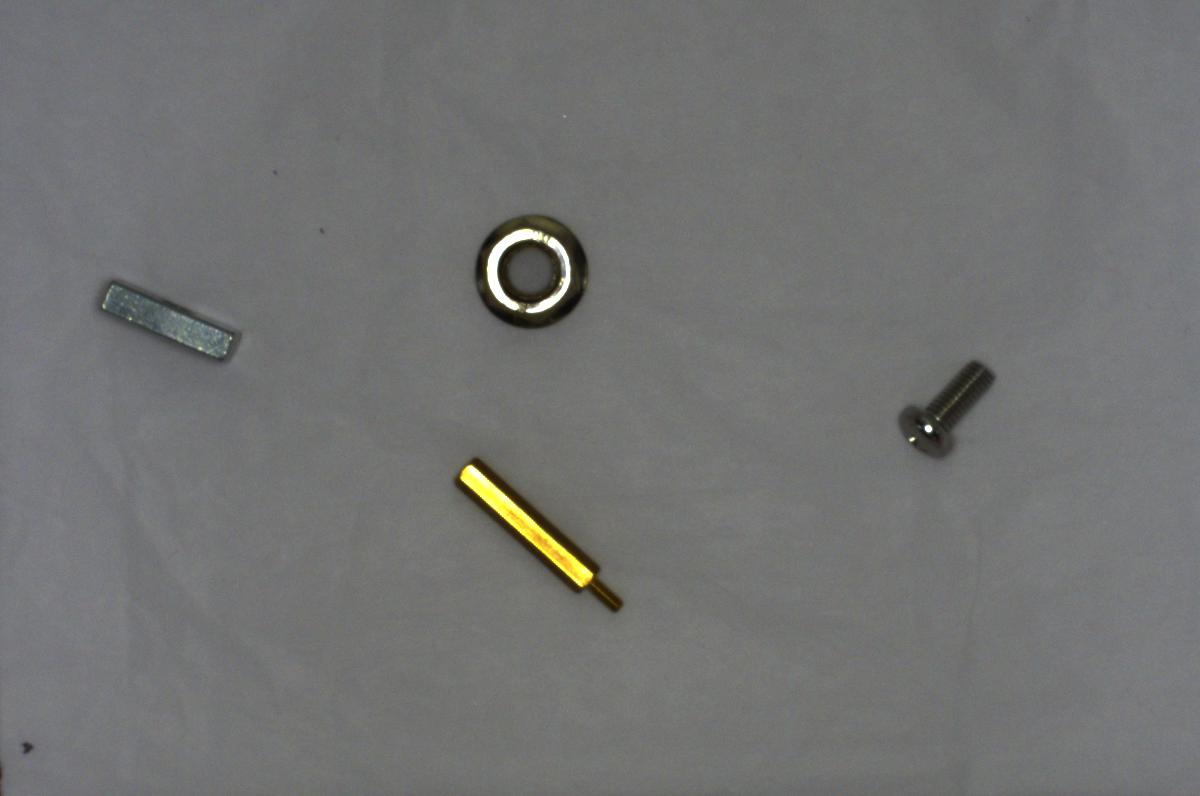Flange nut: (466, 209, 591, 335)
Hexagon pillar: (445, 448, 634, 629)
Rectangular nut: (97, 276, 245, 368)
Round head screw: (897, 350, 999, 459)
